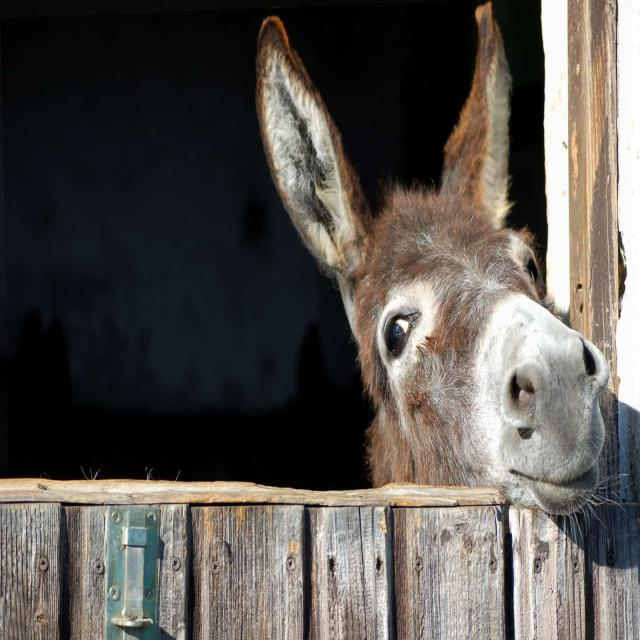Donkey: (248, 11, 626, 530)
